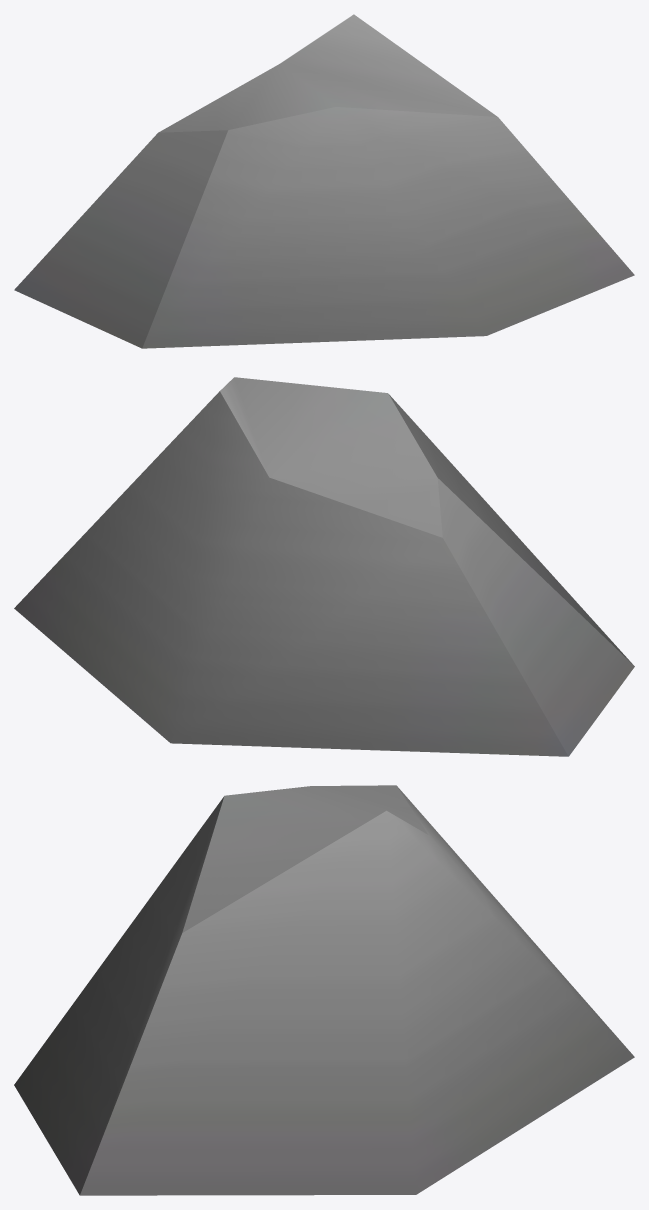
3 views of the same model, one above another, from view 1: azimuth 30°, elevation 25°; view 2: azimuth 150°, elevation 25°; view 3: azimuth 270°, elevation 25° (orthographic). The views are drawn at different scales.
Parts seen in each view (by area): view 1: Rock003; view 2: Rock003; view 3: Rock003.
Part boxes in pixels (x1=…): Rock003: x1=14, y1=14, x2=634, y2=348; Rock003: x1=14, y1=377, x2=634, y2=756; Rock003: x1=14, y1=785, x2=634, y2=1195.
Bounding box in the file's own units: 4.8 × 2.05 × 4.11.
Materials: 1 (1 with a texture image).
